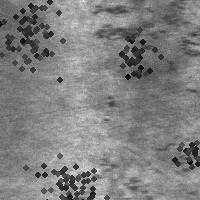rolled-in_scale: (74, 139, 199, 197), (0, 0, 85, 84), (22, 138, 116, 200), (87, 1, 198, 48), (102, 26, 160, 84), (165, 121, 200, 181)
